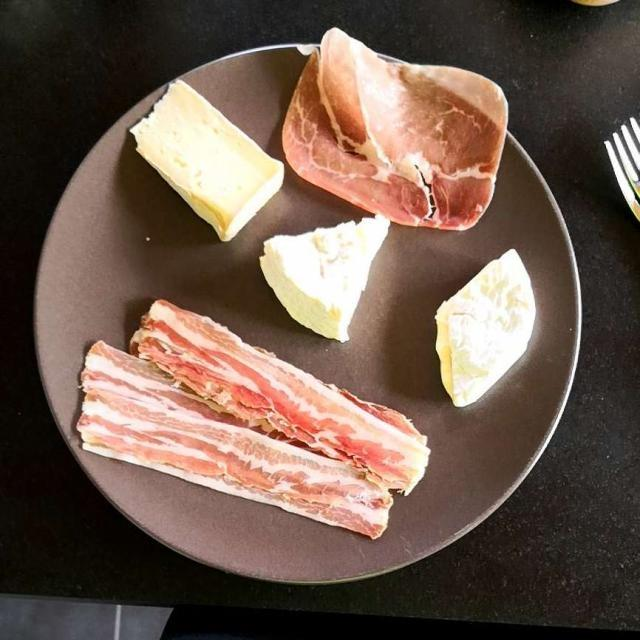bacon: (85, 307, 420, 523)
cheese: (134, 82, 280, 235)
ham: (284, 29, 501, 226)
tomme: (436, 249, 533, 408), (261, 220, 388, 340)
